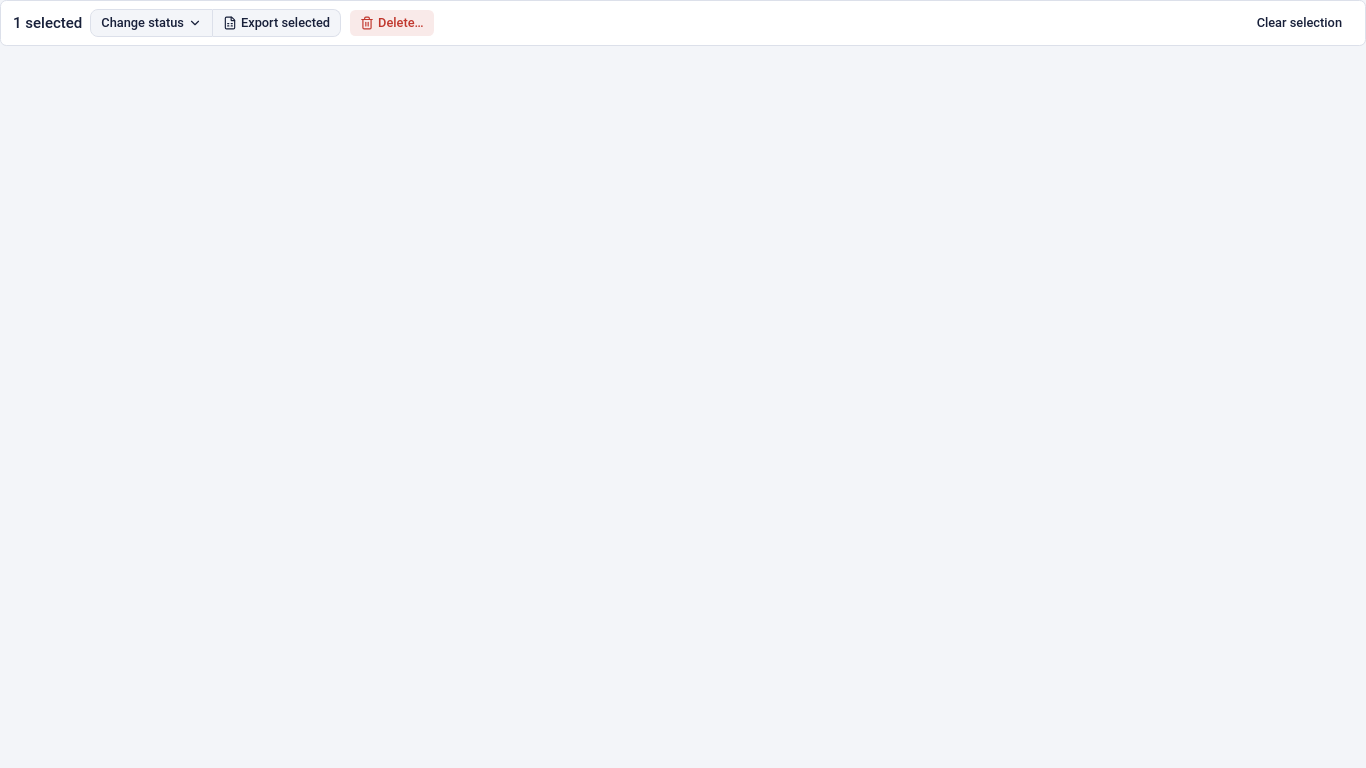
Test: BulkBar delete › names the submission when one is selected
The width and height of the screenshot is (1366, 768).
Click the button "Delete…".
click(392, 23)  # box [349,9,435,37]
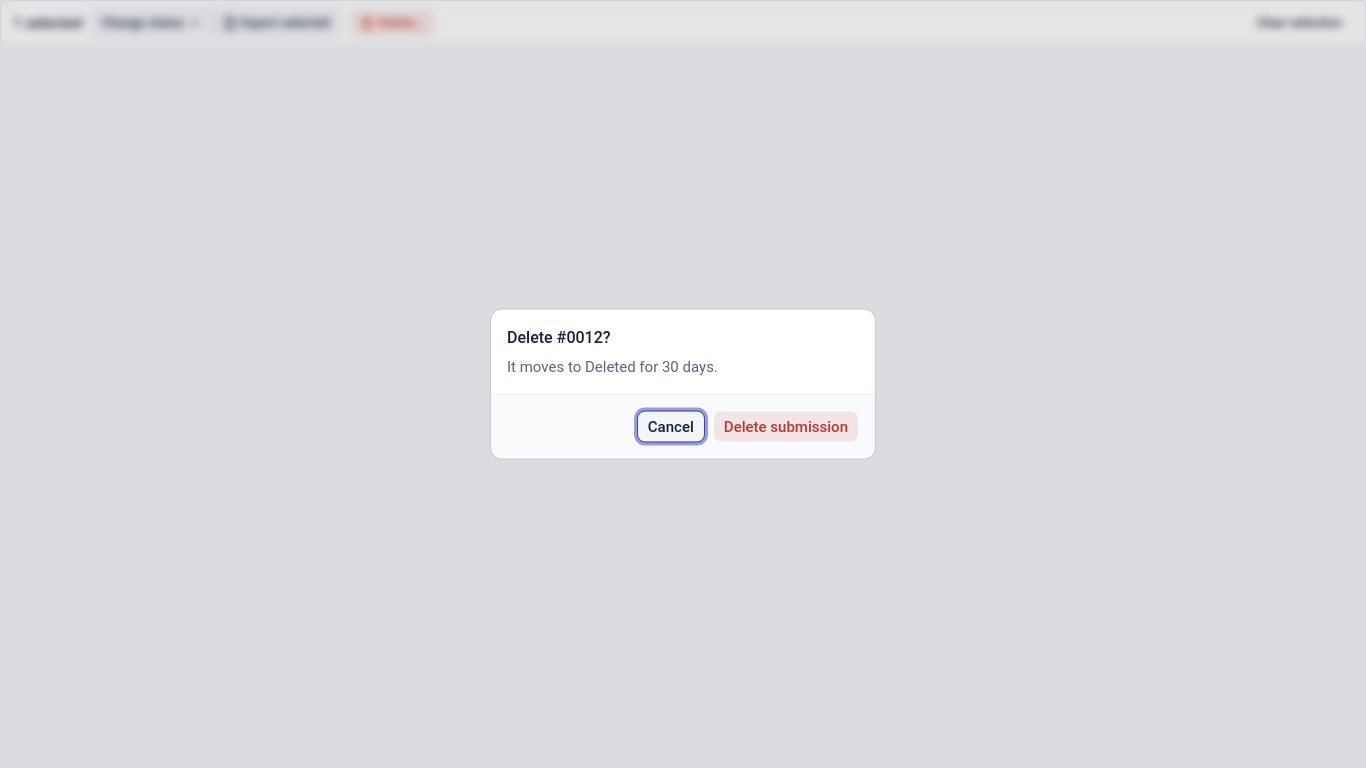
Result: the dialog shows "Delete #0012?" at [507,328,610,346]
Result: the dialog shows "It moves to Deleted for 30 days." at [507,358,718,376]
Result: the button "Delete submission" is shown at [713,410,859,442]
